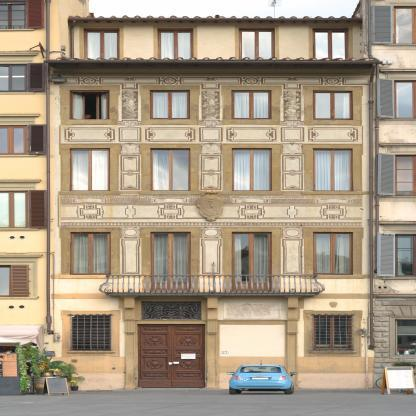Balcony: (99, 275, 325, 295)
Building Outline: (44, 18, 373, 389)
Deco: (282, 143, 303, 191), (120, 143, 140, 191), (201, 143, 221, 191), (201, 227, 221, 274), (282, 227, 302, 274), (121, 227, 141, 274), (196, 190, 225, 221), (280, 89, 303, 125), (119, 89, 142, 125), (199, 89, 222, 125)
Door: (138, 324, 206, 388), (232, 232, 272, 293), (151, 232, 191, 293)
Facade: (43, 14, 372, 388)
Floor: (54, 209, 372, 297), (54, 135, 372, 209), (54, 72, 372, 135)
Floor Slab: (54, 67, 372, 72), (54, 204, 372, 209), (54, 130, 372, 135), (54, 293, 372, 298)
Ground Floor: (54, 298, 372, 389)
Molding: (60, 195, 363, 227), (61, 125, 363, 142), (54, 77, 373, 89)
Sill: (59, 191, 121, 195), (301, 191, 364, 194), (139, 191, 202, 194), (220, 191, 283, 194)
Top Floor: (54, 19, 372, 77)
Window: (231, 148, 272, 191), (313, 148, 353, 191), (70, 148, 110, 191), (150, 148, 190, 191), (314, 232, 354, 274), (71, 232, 111, 274), (313, 315, 353, 351), (72, 316, 111, 351), (314, 90, 354, 120), (150, 90, 190, 120), (232, 90, 272, 120), (70, 90, 109, 120), (141, 301, 202, 320), (313, 28, 349, 60), (84, 28, 120, 60), (158, 28, 194, 60), (239, 28, 275, 60)
